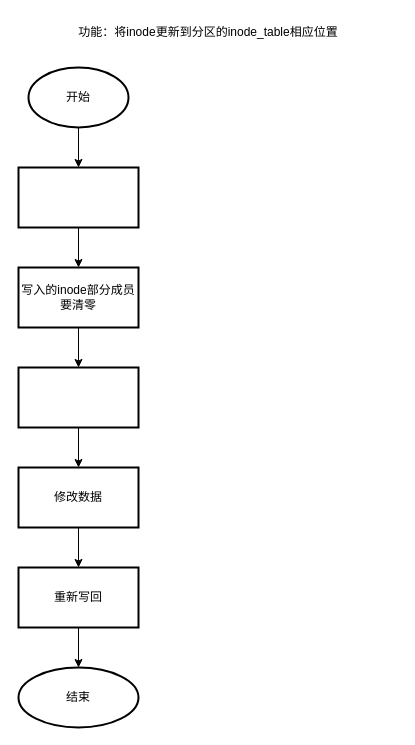
The diagram is 415 pixels wide and 745 high, and some of its shapes have lost their labels. Each missing label, with the centre of its shape:
定位inode位置: pixel 78 197
读入inode所在扇区: pixel 78 397
